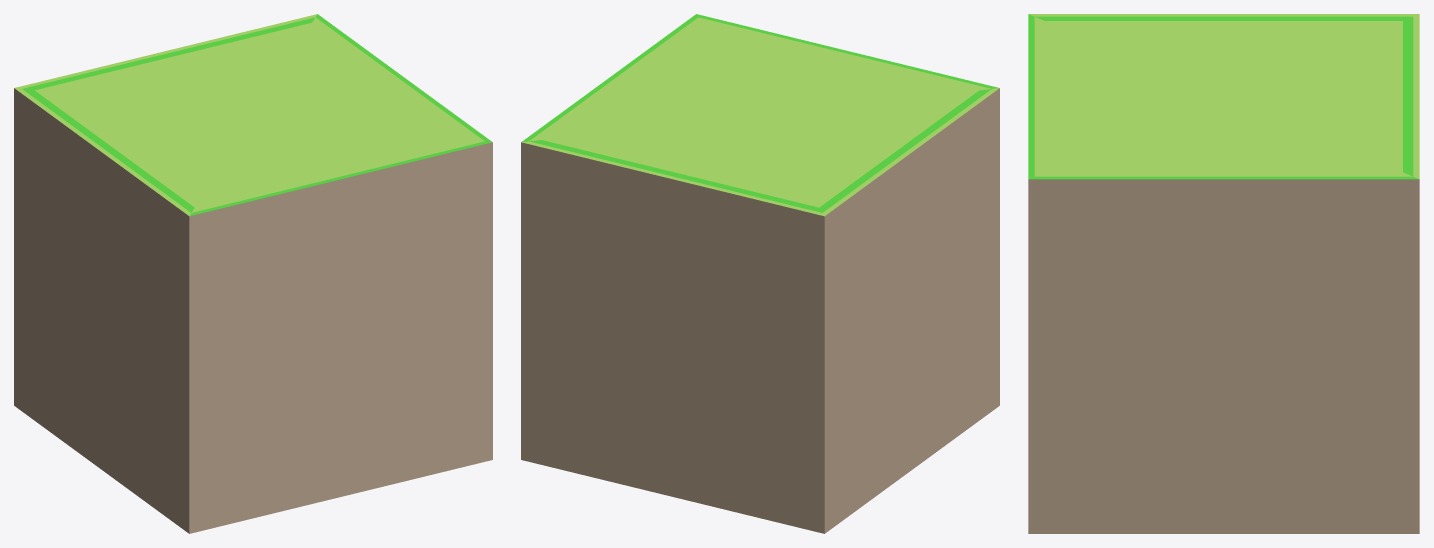
Rendered from Grass.glb.
3 renders of one model, left to right at view 1: azimuth 30°, elevation 25°; view 2: azimuth 150°, elevation 25°; view 3: azimuth 270°, elevation 25°, orthographic. The views are drawn at different scales.
Parts seen in each view (by area): view 1: Cube, Cube.001; view 2: Cube, Cube.001; view 3: Cube, Cube.001.
Boxes of the visible parts, x1,y1,x2,y2 form: Cube: (14, 88, 492, 533); Cube.001: (14, 14, 492, 216); Cube: (521, 88, 999, 533); Cube.001: (521, 14, 999, 216); Cube: (1028, 179, 1419, 533); Cube.001: (1028, 14, 1419, 179).
Size of the model in its own units: 1 by 1 by 1.
